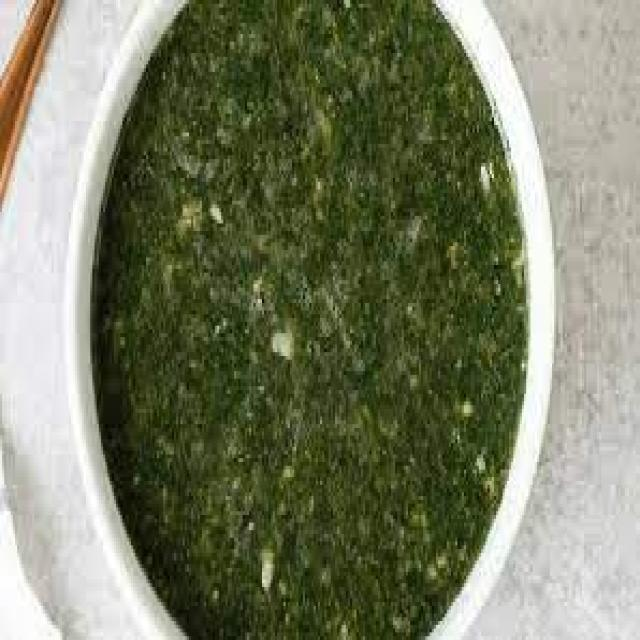Molokhya: (69, 1, 557, 640)
